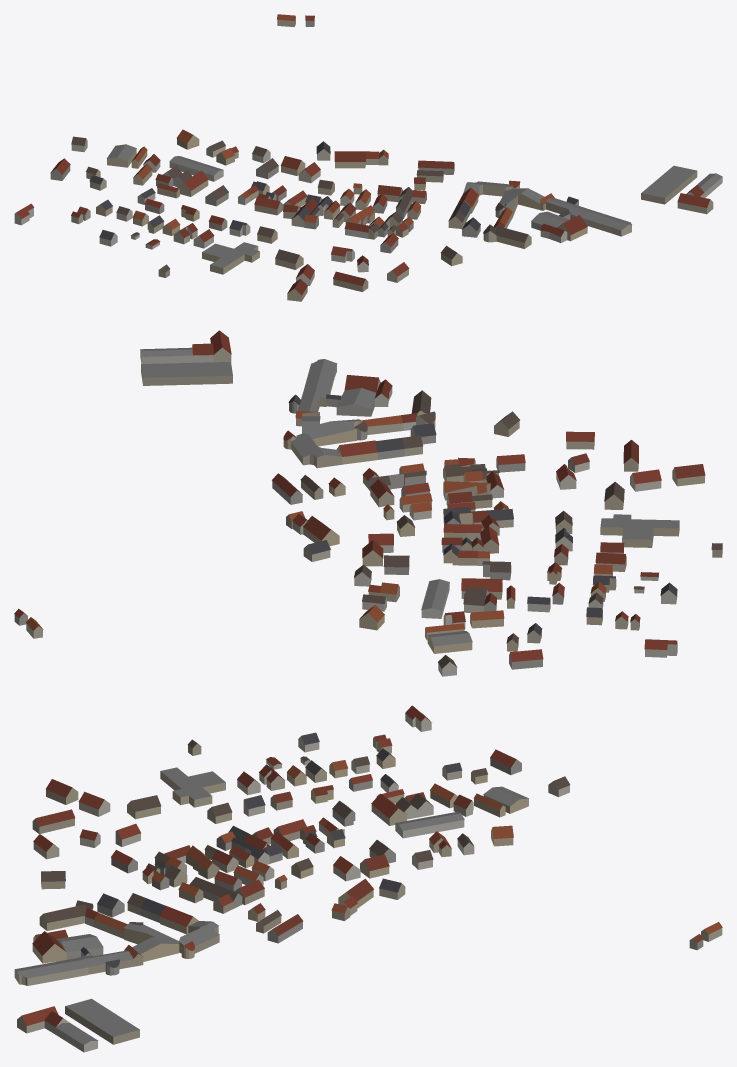
3 views of the same model, one above another, from view 1: azimuth 30°, elevation 25°; view 2: azimuth 150°, elevation 25°; view 3: azimuth 270°, elevation 25° (orthographic). The views are drawn at different scales.
Visible parts, largest first — view 1: buildings; view 2: buildings; view 3: buildings.
Part boxes in pixels (x1,y1,x2,y2): buildings: [14, 14, 722, 301]; buildings: [14, 330, 722, 676]; buildings: [14, 705, 722, 1052].
Bounding box in the file's own units: 552 × 20.44 × 493.
